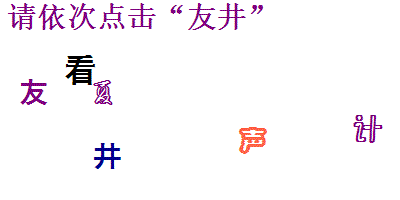result: (186, 2, 248, 31)
text: (349, 109, 385, 145), (63, 53, 97, 88), (18, 76, 49, 107), (92, 141, 122, 172), (237, 125, 268, 155), (93, 78, 116, 106)
